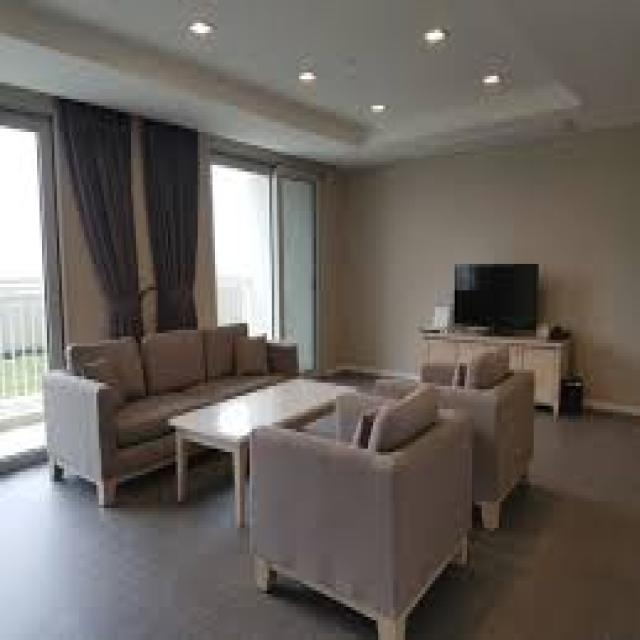Sofa: (250, 393, 472, 626), (44, 343, 273, 482), (381, 354, 533, 516)
Table: (167, 375, 347, 498)
tv: (455, 264, 539, 328)
window: (2, 110, 61, 467), (212, 159, 317, 359)
